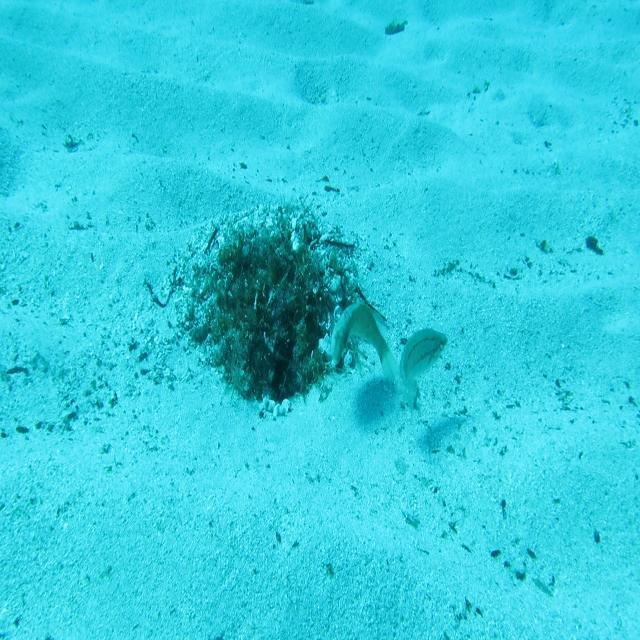BEND: (330, 298, 400, 390)
core_nest: (243, 250, 296, 292)
female: (396, 325, 450, 420)
nest: (169, 188, 378, 430)
vegetation: (382, 20, 407, 34)
